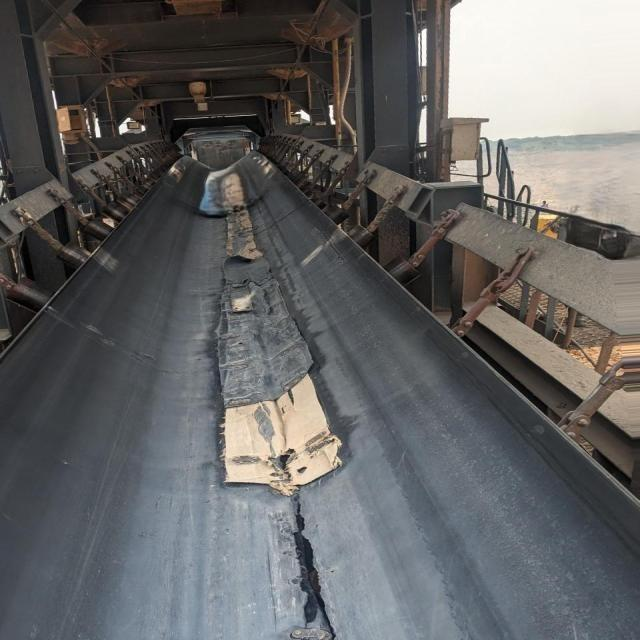Tear: (278, 482, 344, 640)
